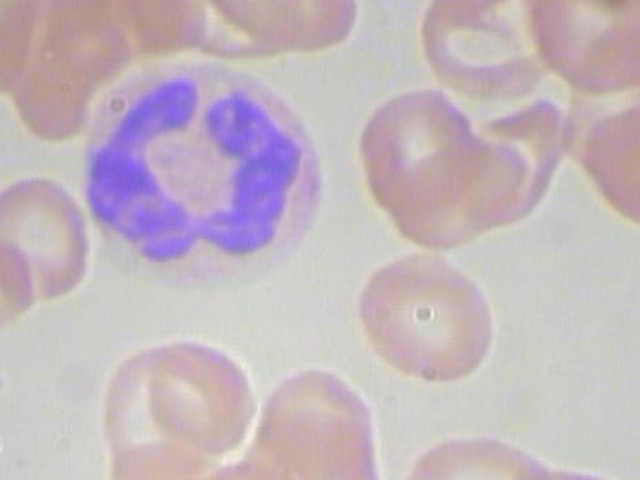RBC: (345, 247, 502, 384), (354, 82, 481, 204), (255, 359, 383, 480), (412, 0, 553, 101), (139, 341, 261, 455), (0, 172, 94, 307), (183, 0, 360, 63), (523, 0, 640, 92), (581, 100, 640, 228), (0, 231, 39, 354), (0, 0, 43, 85)
WBC: (73, 51, 332, 293)
